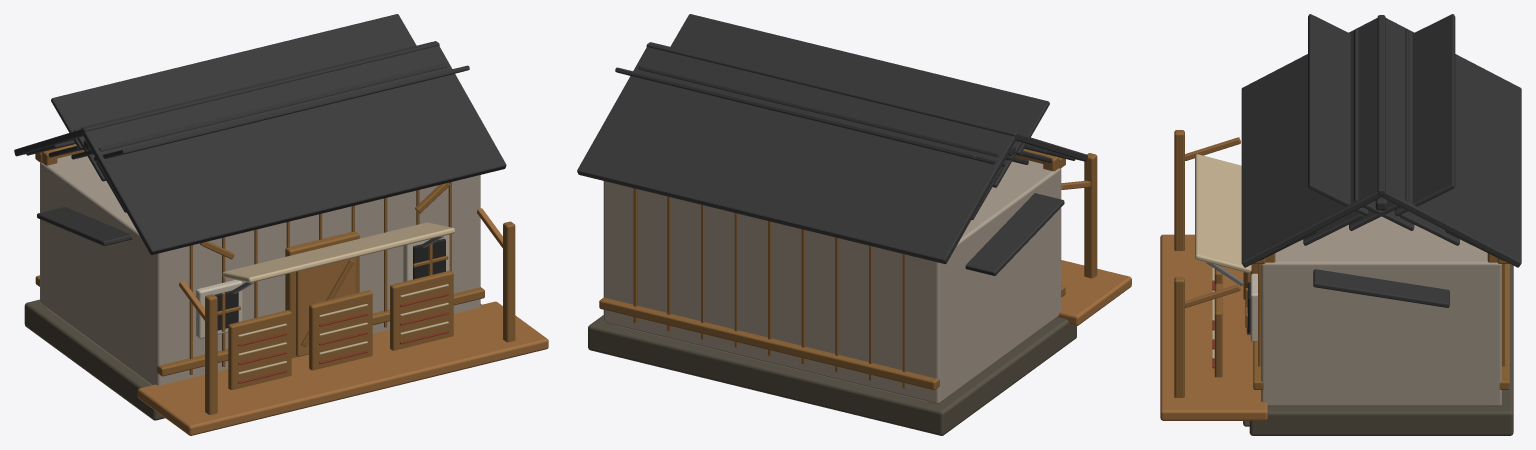
The model's file is textile-workshop.glb.
The picture shows the model from 3 angles, left to right: view 1: azimuth 30°, elevation 25°; view 2: azimuth 150°, elevation 25°; view 3: azimuth 270°, elevation 25°; orthographic projection. The views are drawn at different scales.
Parts seen in each view (by area): view 1: textile-workshop-farm-roof-slate, textile-workshop-farm-plaster, textile-workshop-farm-wood-dark, textile-workshop-farm-wood, textile-workshop-farm-cloth, textile-workshop-farm-stone-dark, textile-workshop-farm-window, textile-workshop-farm-trim, textile-workshop-farm-barn-red; view 2: textile-workshop-farm-roof-slate, textile-workshop-farm-plaster, textile-workshop-farm-stone-dark, textile-workshop-farm-wood-dark, textile-workshop-farm-wood; view 3: textile-workshop-farm-roof-slate, textile-workshop-farm-plaster, textile-workshop-farm-wood, textile-workshop-farm-stone-dark, textile-workshop-farm-wood-dark, textile-workshop-farm-cloth, textile-workshop-farm-trim.
Boxes of the visible parts, left/top/right/bottom form: textile-workshop-farm-roof-slate: left=14, top=14, right=506, bottom=254; textile-workshop-farm-plaster: left=40, top=155, right=480, bottom=385; textile-workshop-farm-wood-dark: left=35, top=144, right=515, bottom=414; textile-workshop-farm-wood: left=137, top=208, right=548, bottom=435; textile-workshop-farm-cloth: left=222, top=222, right=455, bottom=374; textile-workshop-farm-stone-dark: left=24, top=299, right=481, bottom=420; textile-workshop-farm-window: left=214, top=238, right=445, bottom=330; textile-workshop-farm-trim: left=196, top=234, right=449, bottom=338; textile-workshop-farm-barn-red: left=238, top=293, right=448, bottom=383; textile-workshop-farm-roof-slate: left=577, top=14, right=1087, bottom=275; textile-workshop-farm-plaster: left=603, top=160, right=1061, bottom=403; textile-workshop-farm-stone-dark: left=588, top=315, right=1076, bottom=435; textile-workshop-farm-wood-dark: left=599, top=149, right=1097, bottom=404; textile-workshop-farm-wood: left=1058, top=180, right=1131, bottom=325; textile-workshop-farm-roof-slate: left=1241, top=14, right=1521, bottom=307; textile-workshop-farm-plaster: left=1261, top=216, right=1501, bottom=406; textile-workshop-farm-wood: left=1160, top=137, right=1267, bottom=420; textile-workshop-farm-stone-dark: left=1249, top=264, right=1513, bottom=435; textile-workshop-farm-wood-dark: left=1174, top=130, right=1509, bottom=406; textile-workshop-farm-cloth: left=1195, top=154, right=1251, bottom=358; textile-workshop-farm-trim: left=1250, top=273, right=1257, bottom=341.
Size of the model in its own units: 6.82 by 4.29 by 5.54.
